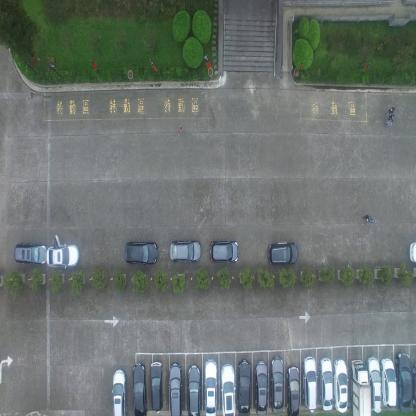car: (349, 357, 371, 415), (394, 350, 411, 412), (365, 353, 381, 412), (46, 242, 79, 270), (379, 355, 396, 407), (167, 362, 183, 416), (168, 237, 201, 263), (124, 240, 158, 265), (333, 356, 348, 412), (266, 240, 298, 266), (132, 363, 148, 415), (220, 363, 236, 415), (270, 354, 284, 413), (302, 354, 316, 413), (318, 355, 333, 410), (14, 242, 48, 266), (237, 357, 251, 415), (186, 364, 201, 416), (254, 359, 268, 414), (150, 361, 164, 413), (204, 359, 217, 415), (209, 239, 239, 263), (112, 367, 127, 415), (285, 364, 299, 415), (408, 238, 416, 267), (412, 360, 416, 412)
